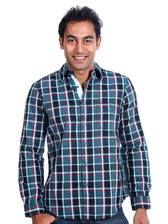clothoes: (16, 61, 155, 217)
